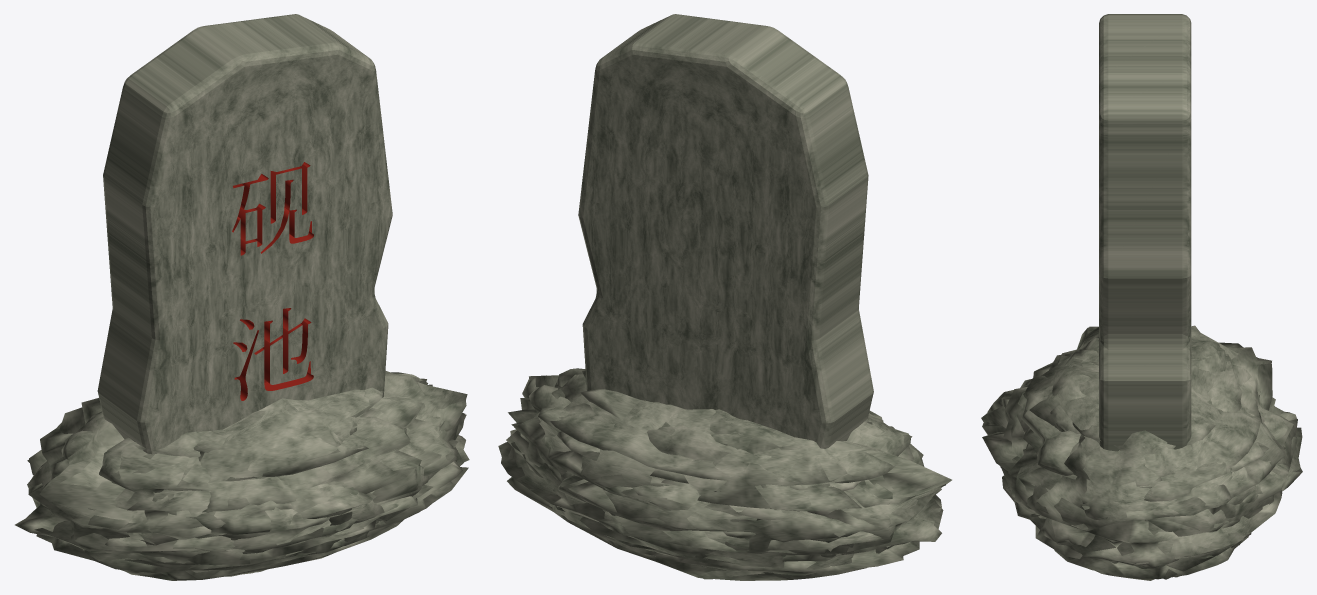
The model's file is campus-limestone.glb.
3 views of the same model, side by side, from view 1: azimuth 30°, elevation 25°; view 2: azimuth 150°, elevation 25°; view 3: azimuth 270°, elevation 25° (orthographic). The views are drawn at different scales.
Visible parts, largest first — view 1: PondStele, Limestone_2_high, Limestone_2_low, Limestone_1_high, Limestone_0_high, Limestone_1_low, Limestone_0_low; view 2: PondStele, Limestone_2_high, Limestone_2_low, Limestone_1_high, Limestone_0_high, Limestone_1_low, Limestone_0_low; view 3: PondStele, Limestone_2_high, Limestone_2_low, Limestone_1_high, Limestone_0_high, Limestone_1_low, Limestone_0_low.
Part boxes in pixels (x1,y1,x2,y2): PondStele: [97, 14, 392, 454]; Limestone_2_high: [15, 373, 469, 580]; Limestone_2_low: [27, 370, 467, 580]; Limestone_1_high: [29, 372, 462, 572]; Limestone_0_high: [54, 384, 432, 562]; Limestone_1_low: [27, 378, 460, 563]; Limestone_0_low: [133, 417, 425, 553]; PondStele: [578, 14, 873, 448]; Limestone_2_high: [498, 368, 947, 580]; Limestone_2_low: [508, 374, 951, 579]; Limestone_1_high: [510, 385, 910, 571]; Limestone_0_high: [511, 397, 941, 570]; Limestone_1_low: [506, 386, 912, 563]; Limestone_0_low: [535, 434, 889, 557]; PondStele: [1099, 14, 1191, 451]; Limestone_2_high: [1000, 325, 1285, 580]; Limestone_2_low: [1024, 333, 1283, 579]; Limestone_1_high: [982, 326, 1297, 558]; Limestone_0_high: [982, 390, 1302, 531]; Limestone_1_low: [1001, 326, 1297, 546]; Limestone_0_low: [981, 406, 1300, 530].
Bounding box in the file's own units: 4 × 4.64 × 2.65.
Materials: 2 (1 with a texture image).
